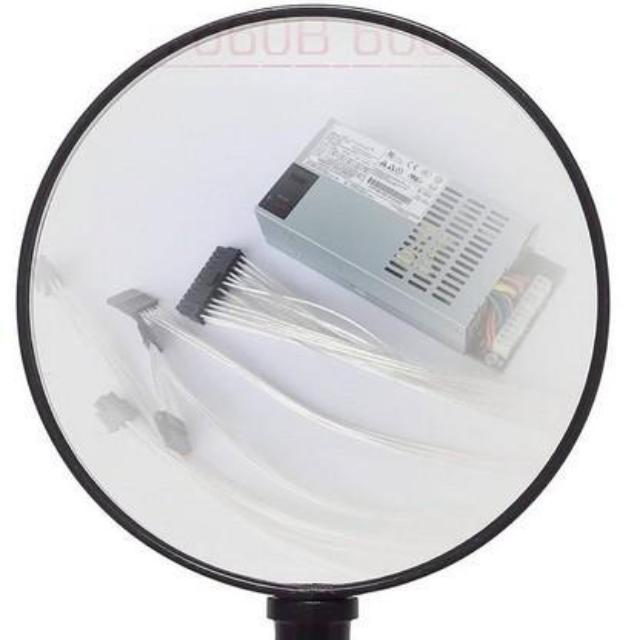PSU: (258, 113, 570, 381)
